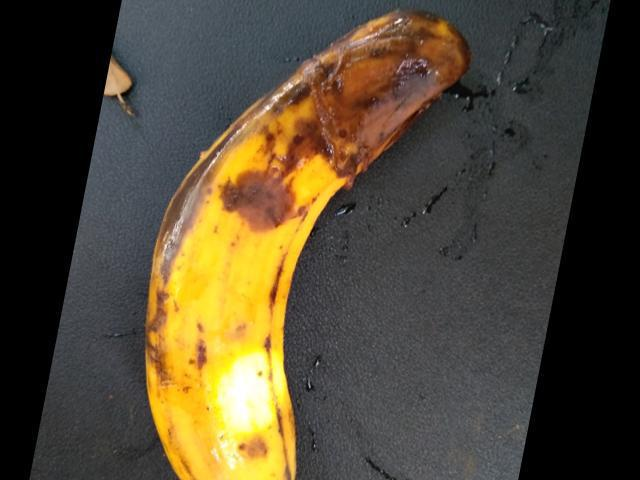rotten: (112, 16, 467, 479)
